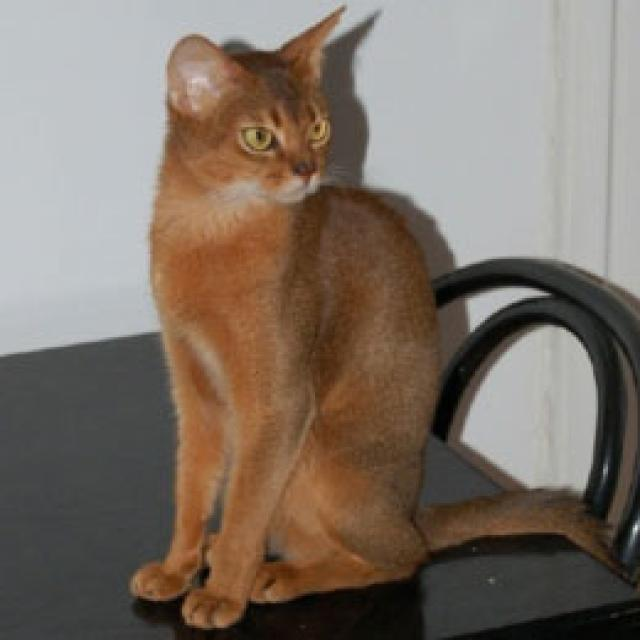Abyssinian: (152, 27, 363, 217)
